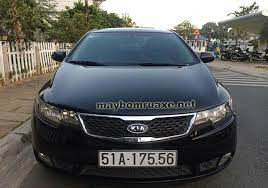Car number plates: (98, 150, 178, 167)
